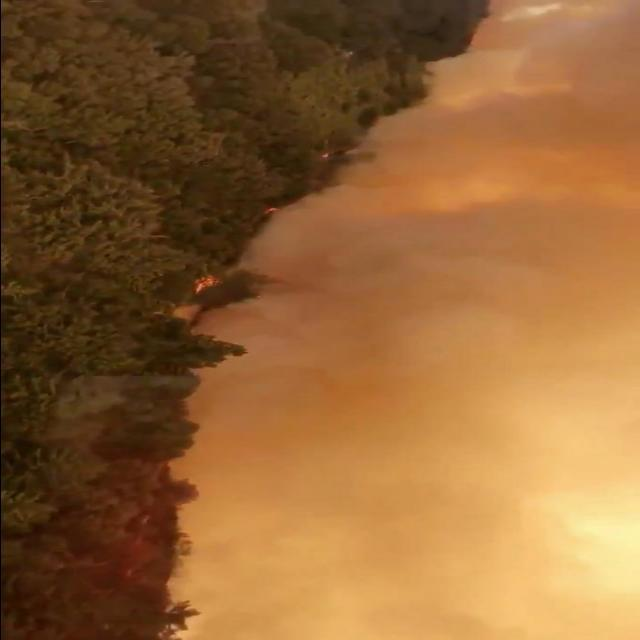Fire: (187, 266, 224, 300)
